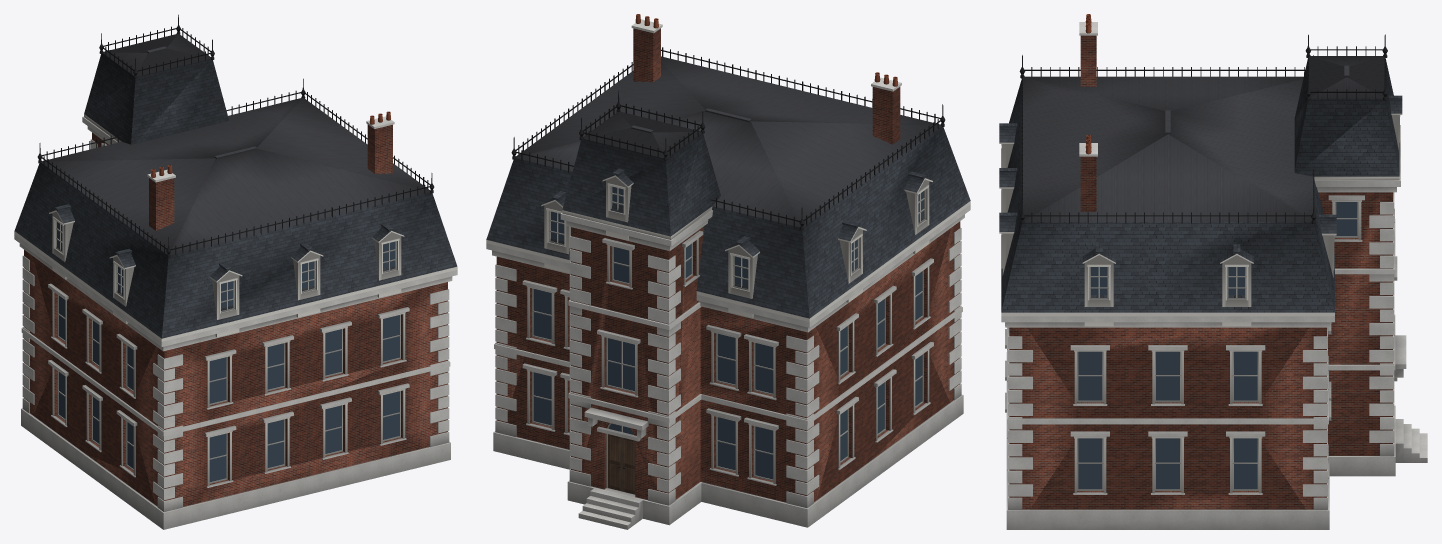
Rendered from second-empire-mansion_lod0.glb.
3 renders of one model, left to right at view 1: azimuth 30°, elevation 25°; view 2: azimuth 150°, elevation 25°; view 3: azimuth 270°, elevation 25°, orthographic. The views are drawn at different scales.
Visible parts, largest first — view 1: second-empire-mansion; view 2: second-empire-mansion; view 3: second-empire-mansion.
Boxes of the visible parts, left/top/right/bottom form: second-empire-mansion: left=14, top=14, right=457, bottom=529; second-empire-mansion: left=486, top=14, right=970, bottom=529; second-empire-mansion: left=999, top=14, right=1427, bottom=529.
Bounding box in the file's own units: 14.74 × 16.47 × 16.17.
8 materials, 6 textured.
